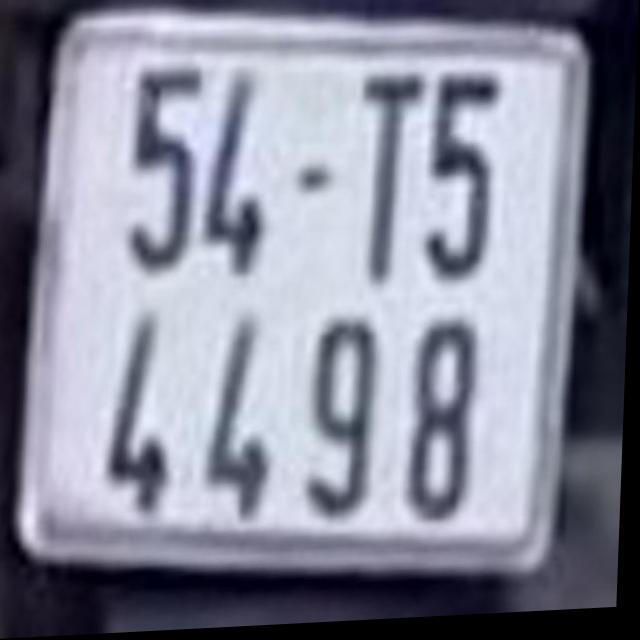4: (107, 311, 181, 518), (210, 316, 280, 527), (205, 68, 269, 283)
5: (428, 69, 502, 291), (128, 63, 204, 277)
8: (419, 319, 478, 526)
9: (310, 321, 379, 525)
T: (356, 73, 429, 288)
